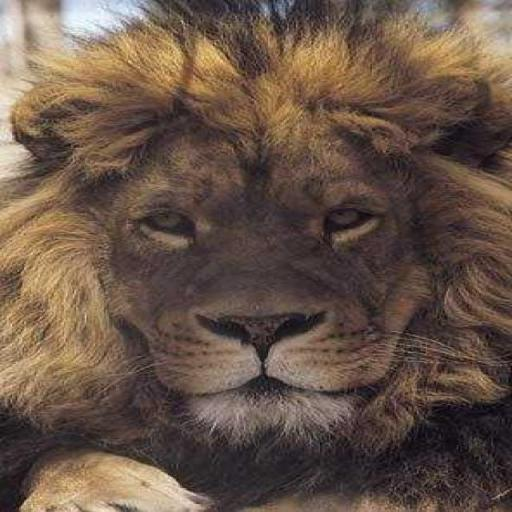Lion: (0, 0, 510, 511)
